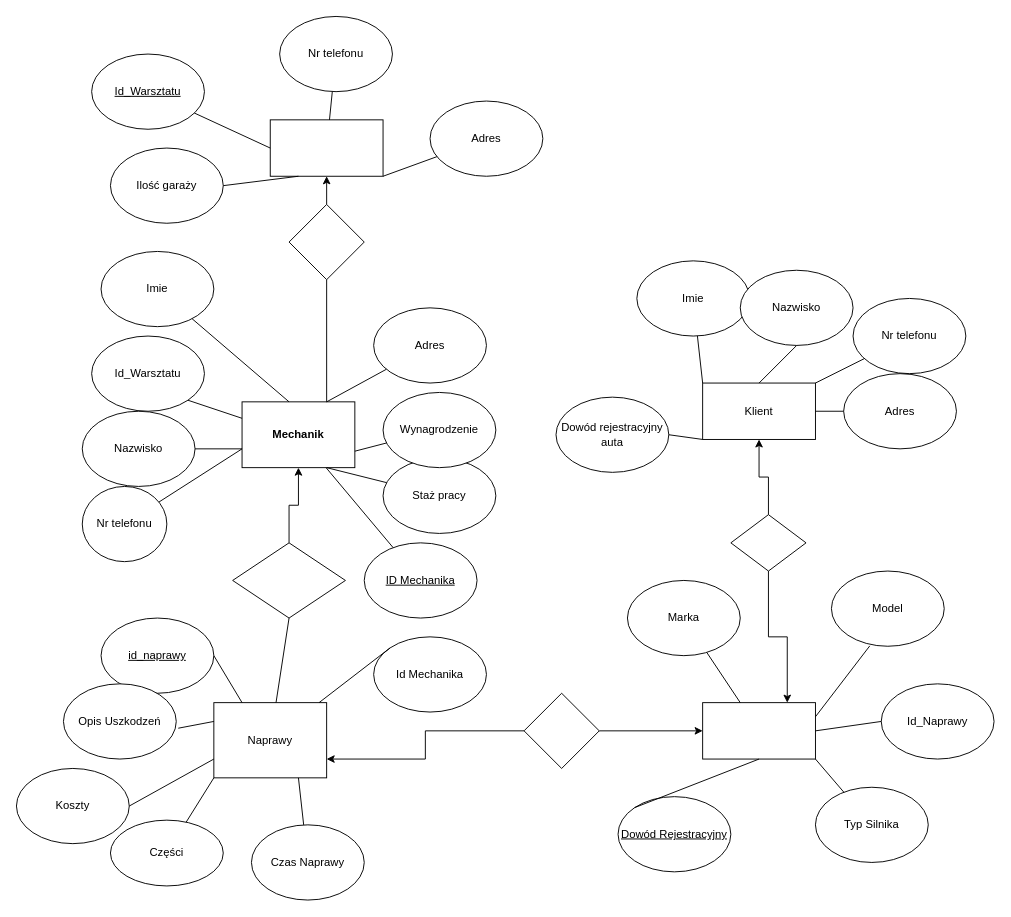
This 1011x917 diagram has some shape labels left out. Each missing label, with the box of its shape:
Dotyczą: (523, 692, 599, 768)
Posiada: (730, 514, 806, 571)
Samochód: (702, 702, 815, 759)
Warsztat Mechaniczny: (269, 119, 383, 176)
Wykonuje: (232, 542, 345, 618)
Zatrudnia: (288, 204, 364, 280)
